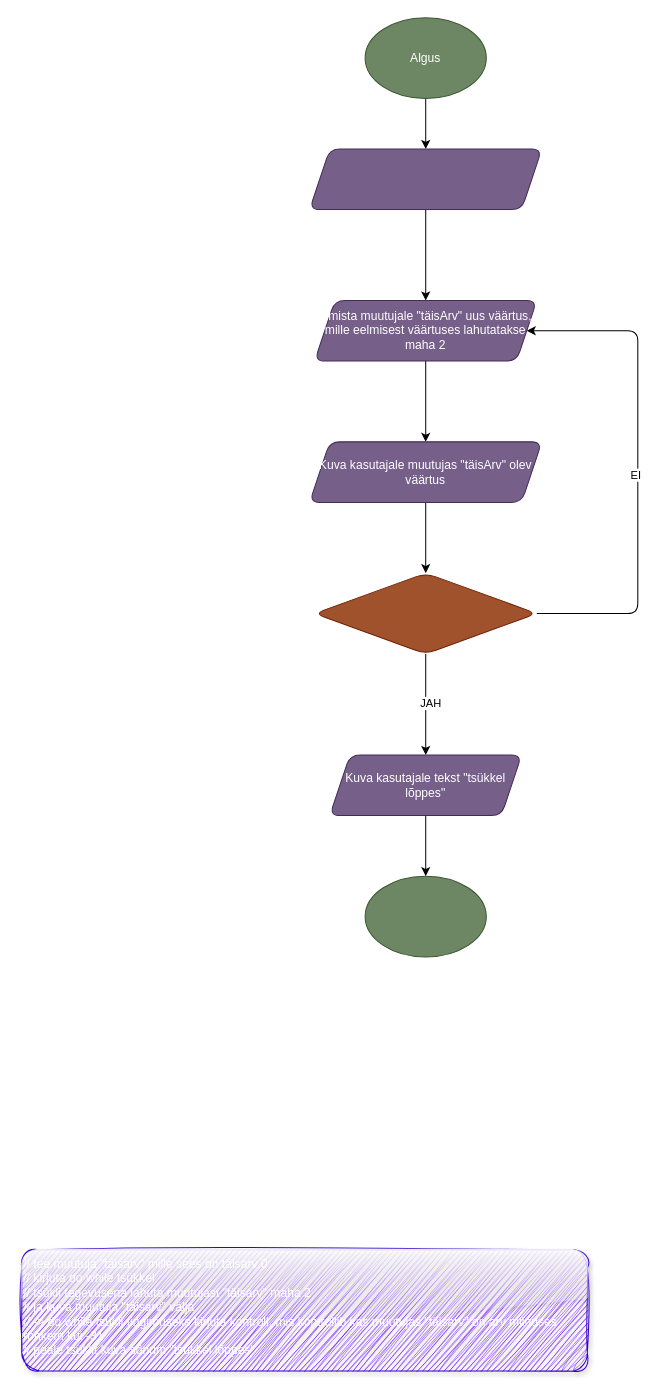
The diagram is 664 pixels wide and 1396 high, and some of its shapes have lost their labels. Each missing label, with the centre of its shape:
Kas muutujas "täisArv" on väärtus väiksem kui -31: (x=425, y=613)
Lõpp: (x=425, y=916)
Tekita muutuja nimega "täisArv" kuhu omistame algväärtusena täisarv 0.: (x=425, y=179)
